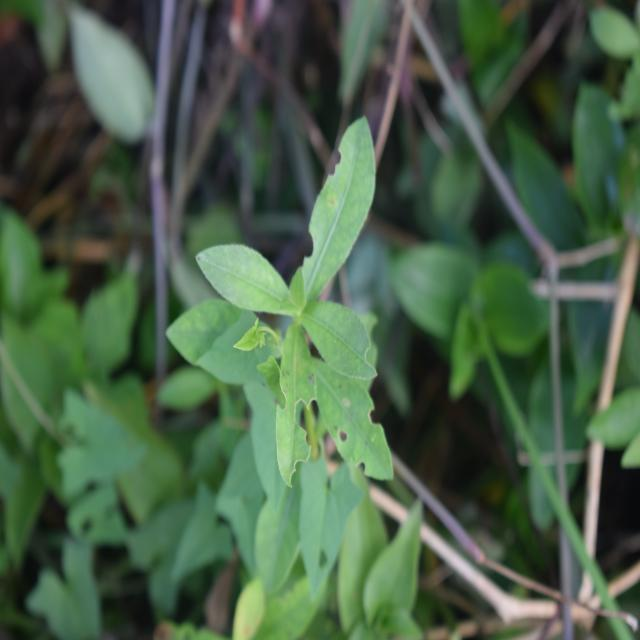Alligatorweed: (204, 131, 400, 552)
